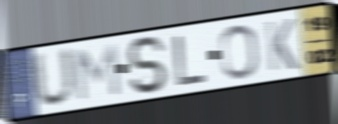K: (264, 17, 300, 74)
L: (171, 33, 209, 89)
M: (73, 42, 122, 103)
O: (218, 22, 261, 81)
S: (125, 34, 171, 97)
U: (29, 45, 79, 111)
